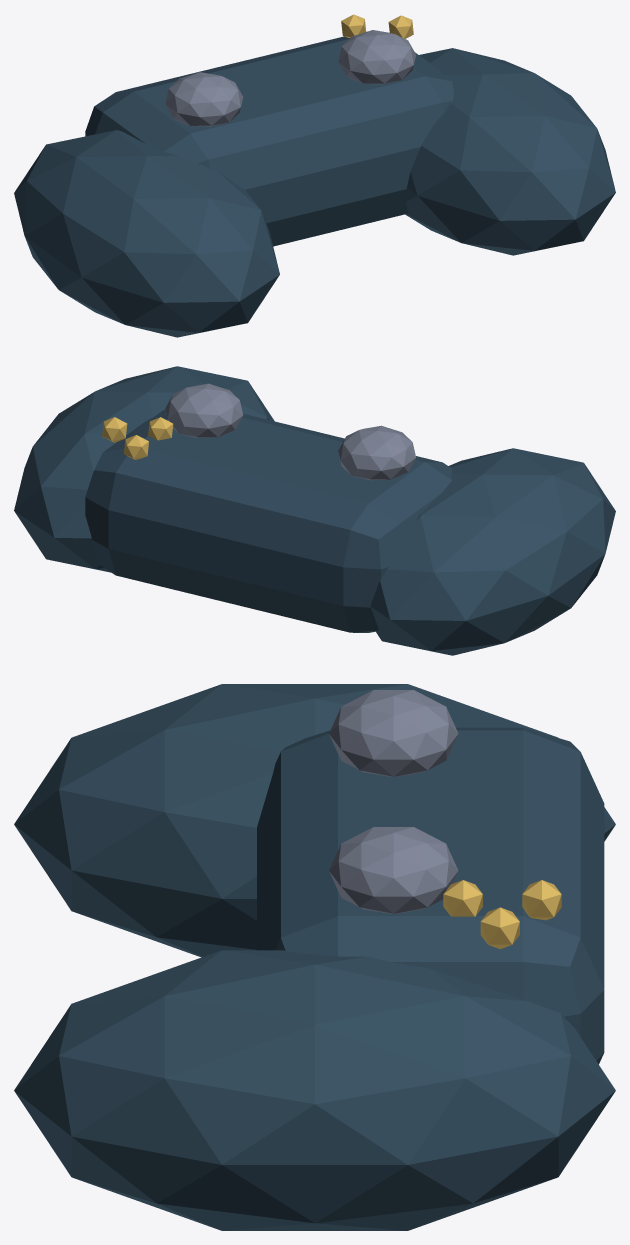
The model's file is game_controller.glb.
3 renders of one model, top to bottom at view 1: azimuth 30°, elevation 25°; view 2: azimuth 150°, elevation 25°; view 3: azimuth 270°, elevation 25°, orthographic. The views are drawn at different scales.
Visible parts, largest first — view 1: game_controller_Mesh; view 2: game_controller_Mesh; view 3: game_controller_Mesh.
Boxes of the visible parts, x1=… form: game_controller_Mesh: x1=14, y1=14, x2=615, y2=337; game_controller_Mesh: x1=14, y1=366, x2=615, y2=655; game_controller_Mesh: x1=14, y1=684, x2=615, y2=1230.
Bounding box in the file's own units: 0.2121 × 0.076 × 0.13.
